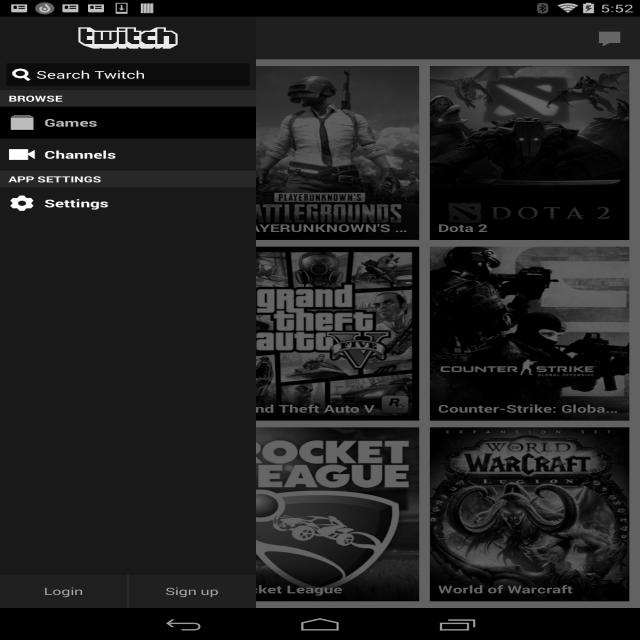ImageButton: (586, 27, 627, 50)
ImageView: (259, 66, 622, 597), (64, 26, 190, 55), (8, 113, 41, 137), (5, 145, 38, 167), (7, 192, 37, 212)
TextView: (37, 68, 152, 84), (36, 580, 104, 603), (43, 195, 120, 213), (45, 146, 123, 163)
